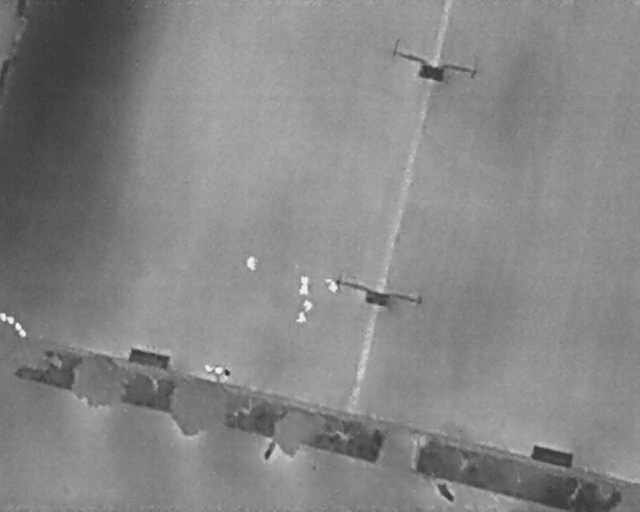Person: (246, 255, 257, 271), (296, 312, 308, 324), (303, 299, 313, 312), (328, 281, 338, 293), (299, 284, 309, 296), (300, 275, 309, 285)
